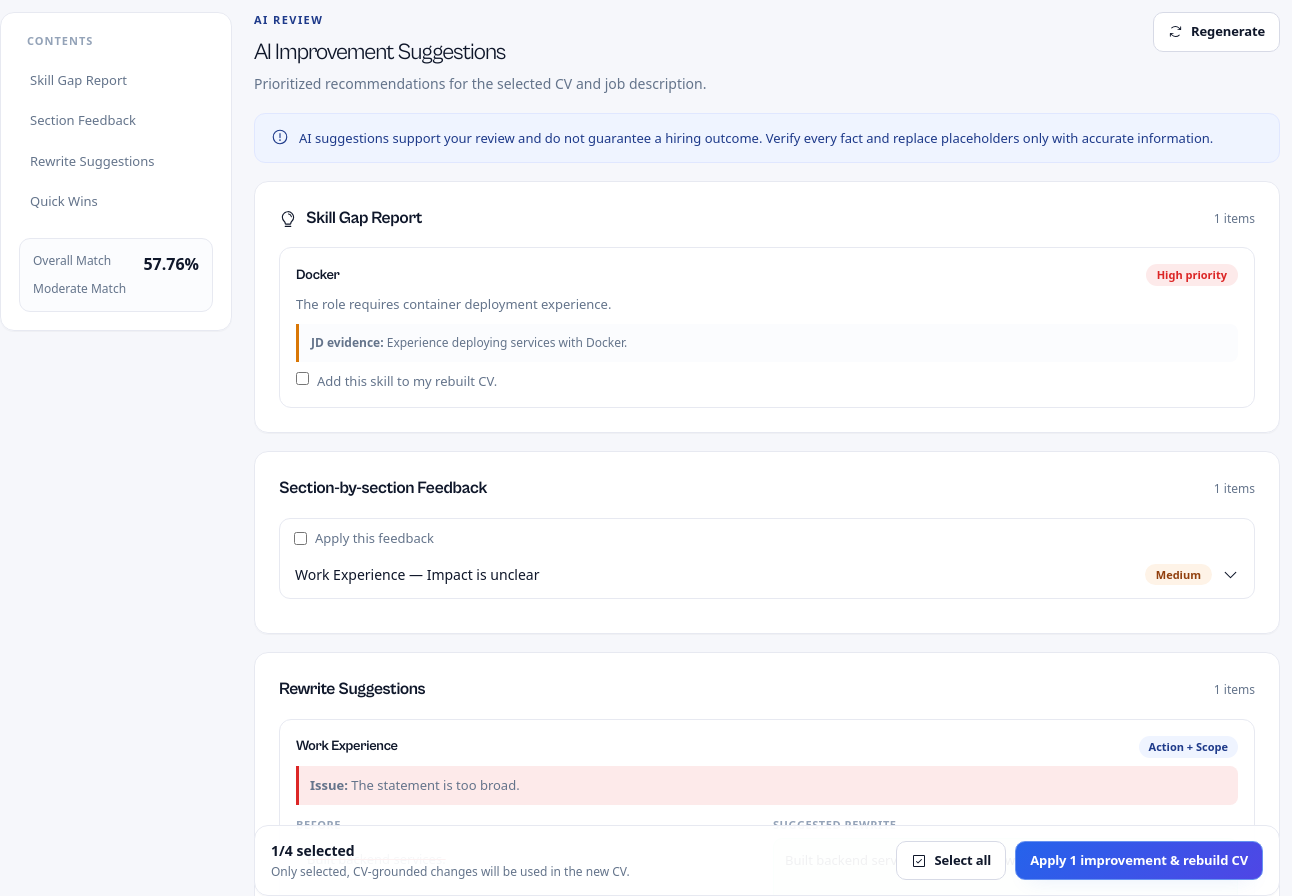
ImprovementScreen acceptance states › selects and clears every available improvement in one action
expect the heading "Docker" is shown: met, box x1=296 y1=264 x2=340 y2=286
expect the text "1/4 selected" is shown: met, box x1=271 y1=841 x2=355 y2=860
Click the button "Select all": (951,861) x1=896 y1=841 x2=1006 y2=880
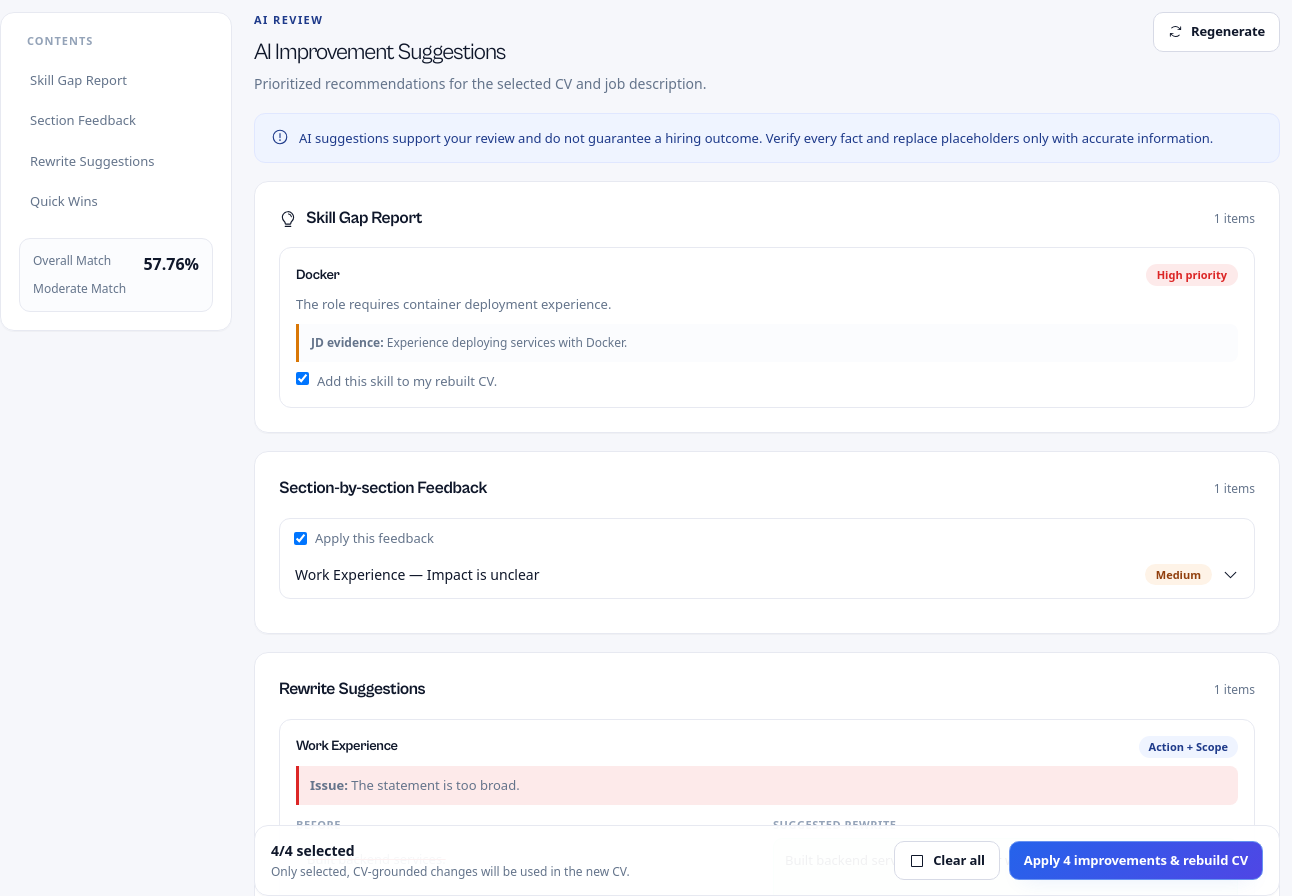
expect the button "Apply 4 improvements & rebuild CV" is enabled: met, box x1=1009 y1=841 x2=1263 y2=880
expect the text "4/4 selected" is shown: met, box x1=271 y1=841 x2=355 y2=860
Click the button "Clear all": (947,861) x1=894 y1=841 x2=1000 y2=880
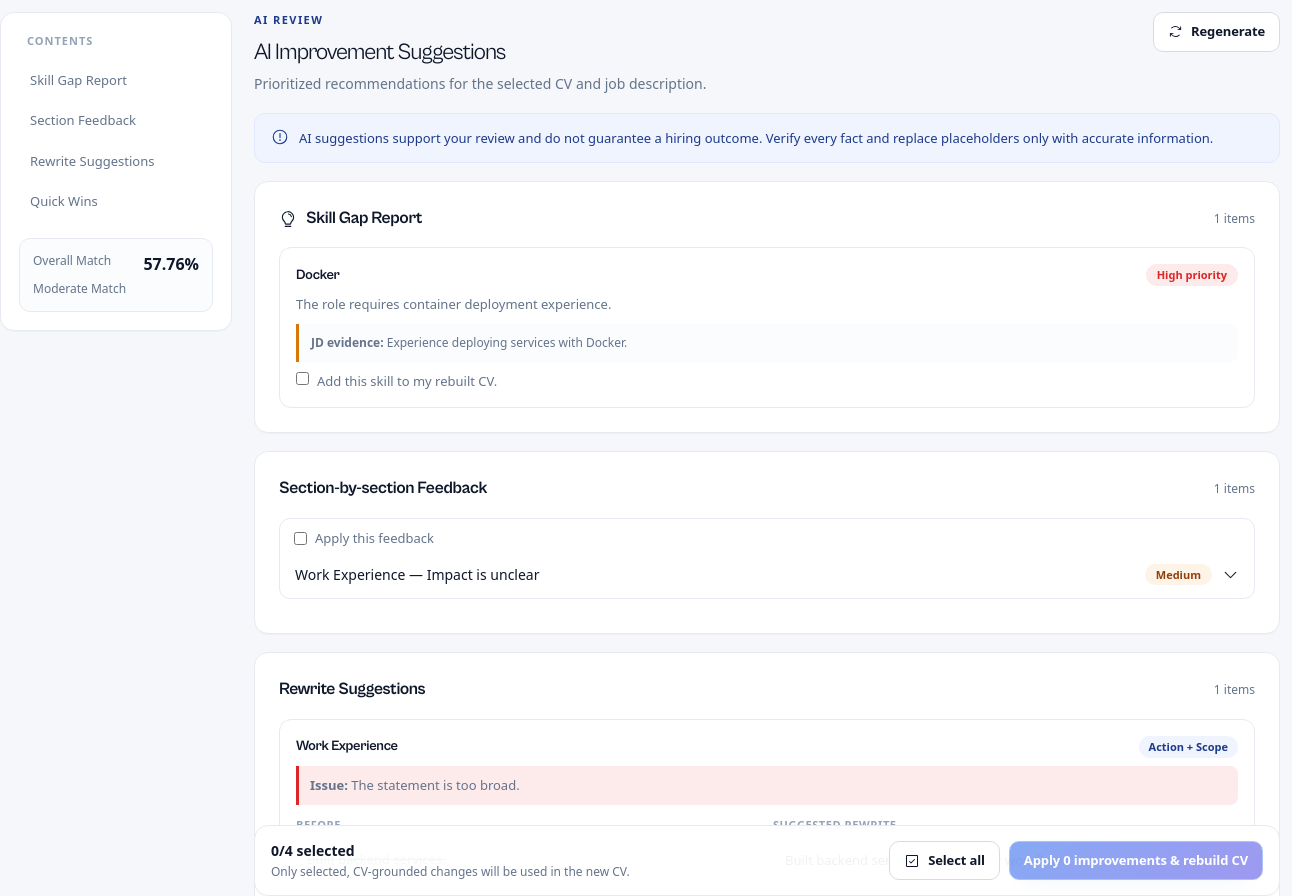
expect the text "0/4 selected" is shown: met, box x1=271 y1=841 x2=355 y2=860
expect the button "Apply 0 improvements & rebuild CV" is disabled: met, box x1=1009 y1=841 x2=1263 y2=880
